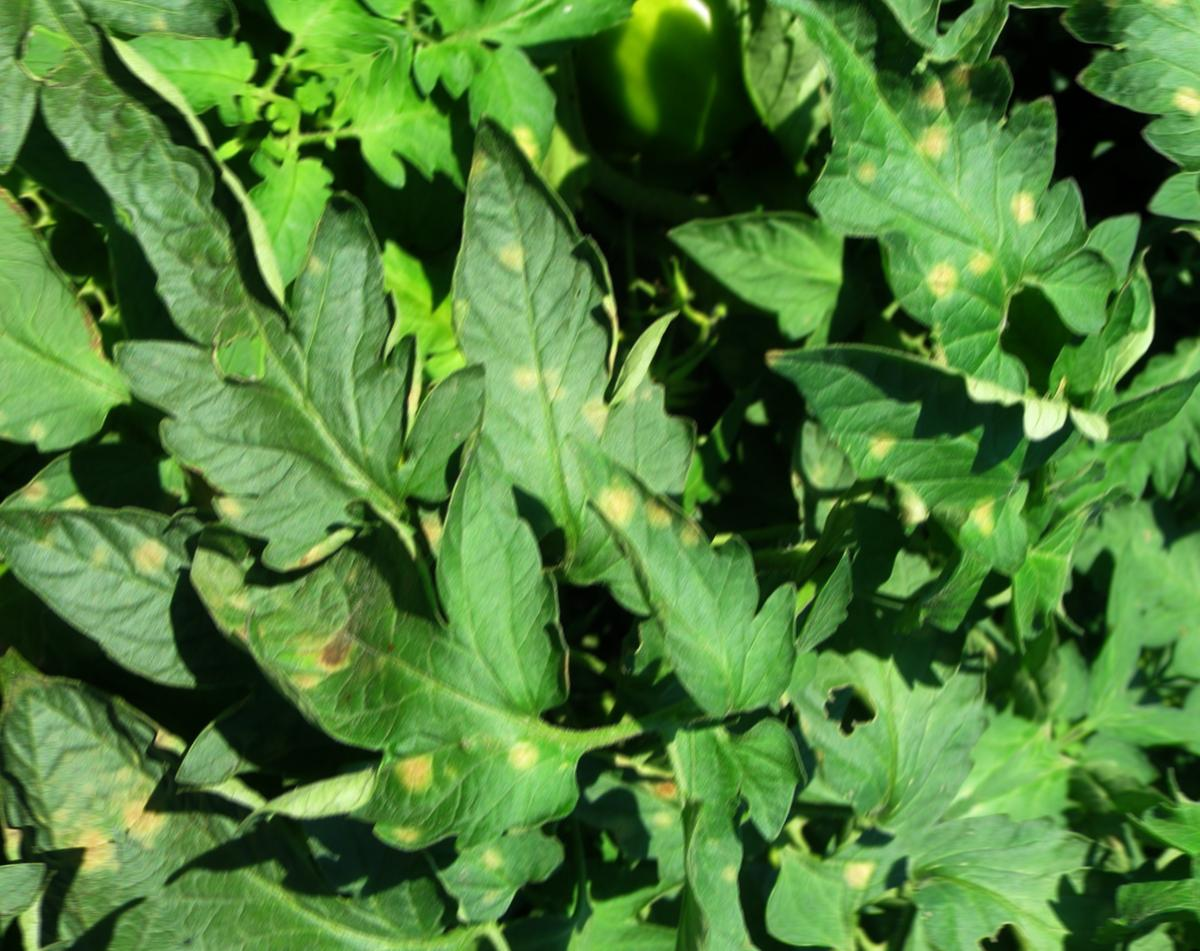Tomato mold leaf: (157, 398, 692, 951), (314, 82, 793, 615), (54, 142, 522, 615), (712, 0, 1183, 432), (766, 238, 1134, 620), (532, 385, 827, 742), (0, 399, 294, 755)
